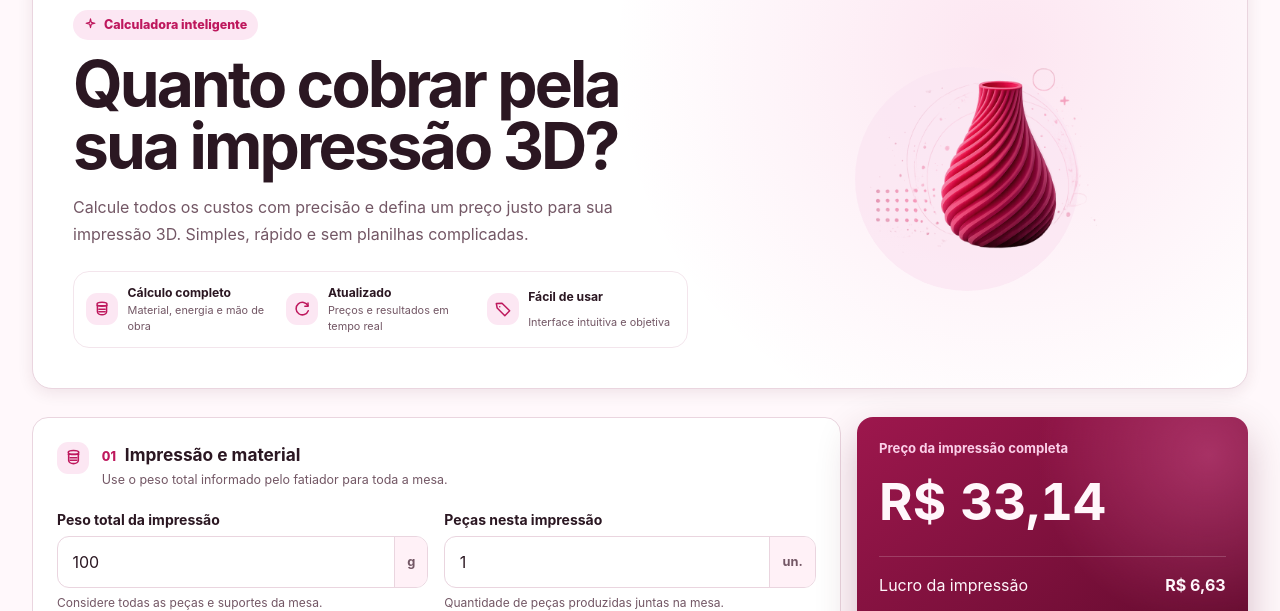
CostCalculatorPage › persiste o último cálculo válido e permite limpar
The width and height of the screenshot is (1280, 611).
Replace the text in the field labelled "Peso total da impressão" with "321" at (226, 562), box [58,537,394,587]
(page scrolled)
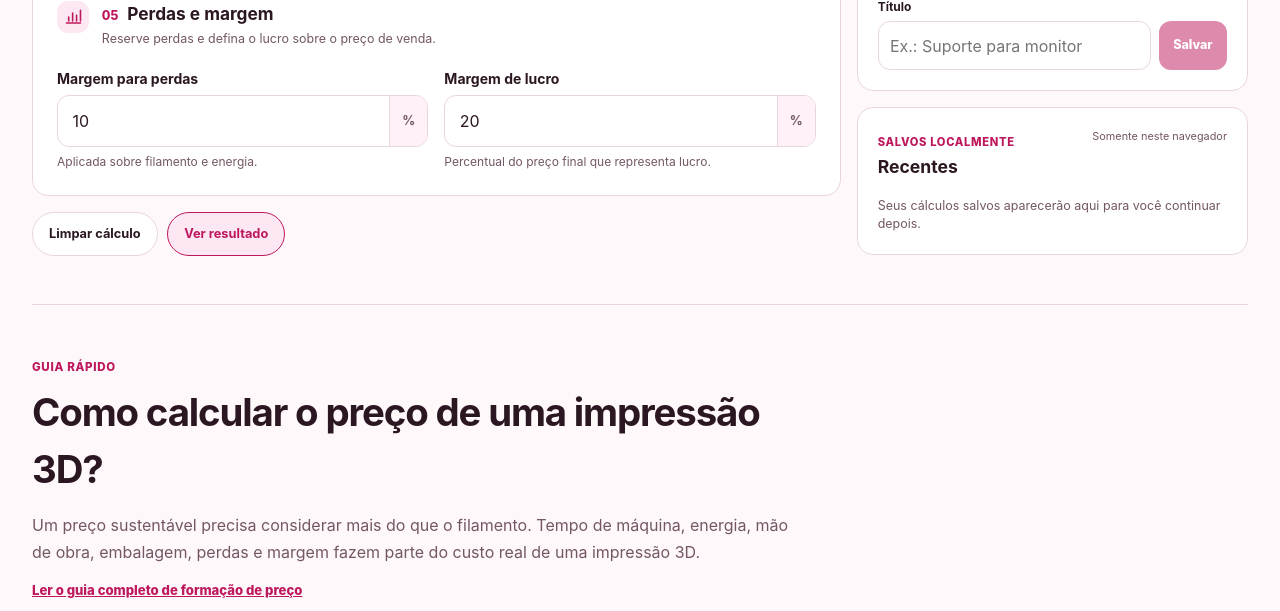
Click the button "Limpar cálculo" at (95, 234), box [32,212,158,256]
(page scrolled)
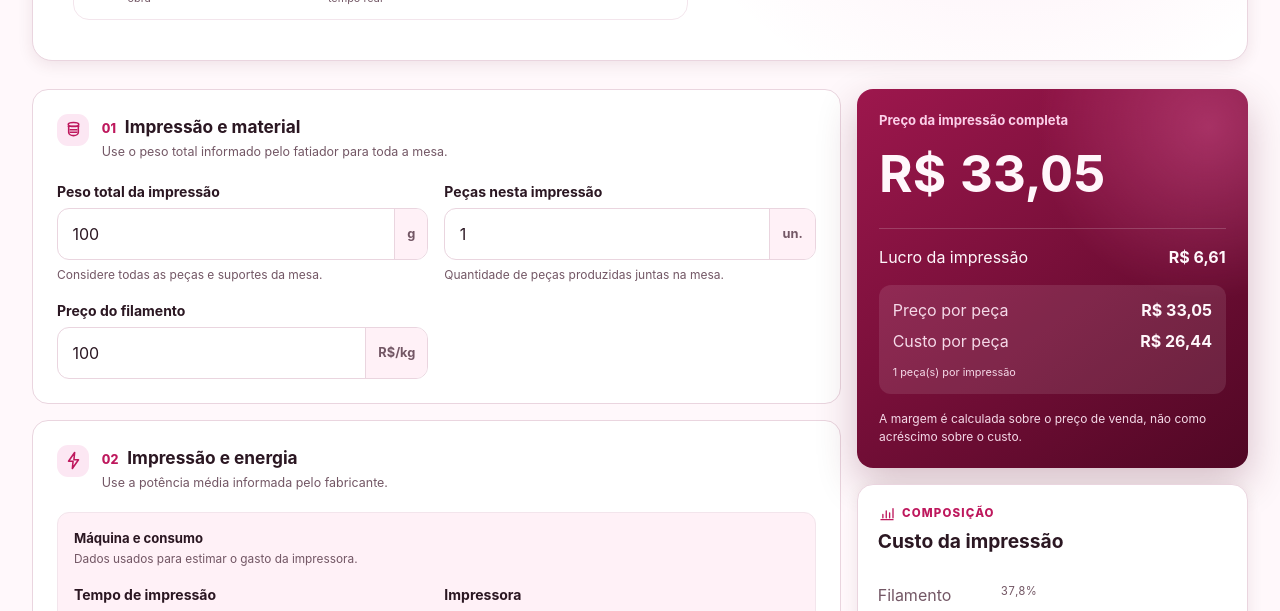
Now the field labelled "Peso total da impressão" holds "100", box [58,209,394,259]
